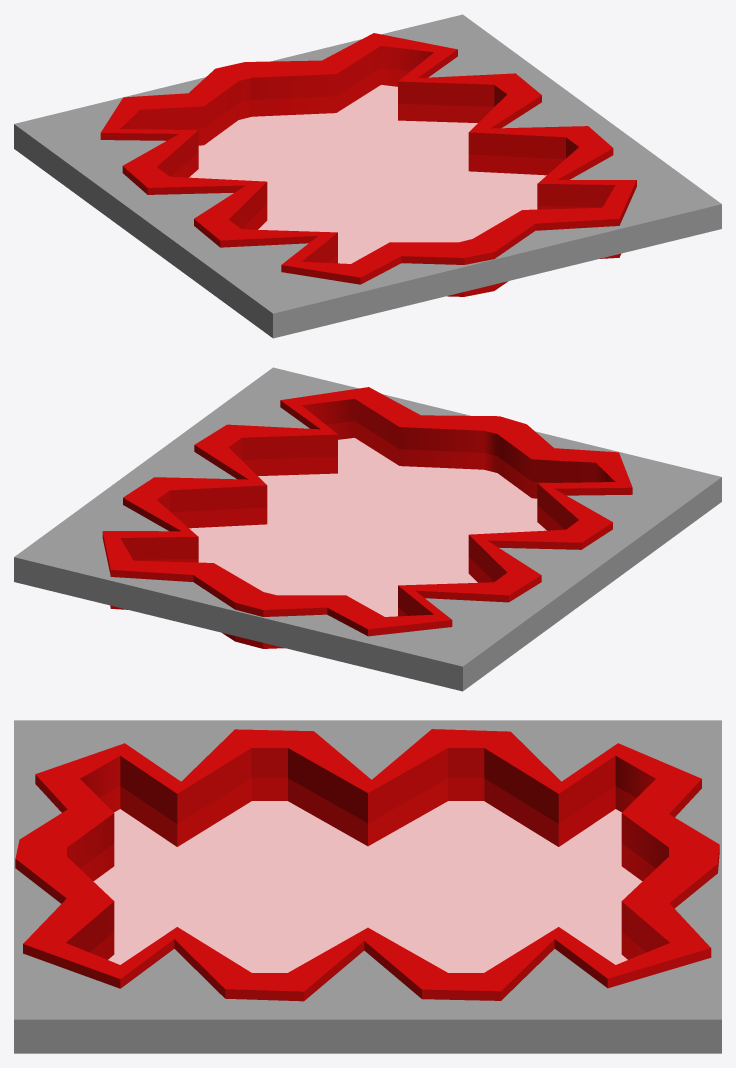
The model's file is Vacio_Synth_Nuevo.fbx.
3 renders of one model, top to bottom at view 1: azimuth 30°, elevation 25°; view 2: azimuth 150°, elevation 25°; view 3: azimuth 270°, elevation 25°, orthographic. The views are drawn at different scales.
Parts seen in each view (by area): view 1: Vacio_Synth_nuevo__1_:RotoTile_vacio, Vacio_Synth_nuevo__1_:Tile_vacioMarco, pPlane1; view 2: Vacio_Synth_nuevo__1_:RotoTile_vacio, Vacio_Synth_nuevo__1_:Tile_vacioMarco, pPlane1; view 3: Vacio_Synth_nuevo__1_:RotoTile_vacio, Vacio_Synth_nuevo__1_:Tile_vacioMarco, pPlane1.
Part boxes in pixels (x1,y1,x2,y2): Vacio_Synth_nuevo__1_:RotoTile_vacio: [14, 14, 721, 338]; Vacio_Synth_nuevo__1_:Tile_vacioMarco: [100, 33, 636, 296]; pPlane1: [172, 68, 601, 263]; Vacio_Synth_nuevo__1_:RotoTile_vacio: [14, 367, 721, 691]; Vacio_Synth_nuevo__1_:Tile_vacioMarco: [102, 387, 632, 648]; pPlane1: [134, 421, 563, 616]; Vacio_Synth_nuevo__1_:RotoTile_vacio: [14, 720, 721, 1053]; Vacio_Synth_nuevo__1_:Tile_vacioMarco: [15, 729, 719, 1001]; pPlane1: [80, 778, 655, 972].
Bounding box in the file's own units: 100 × 8.3 × 100.
